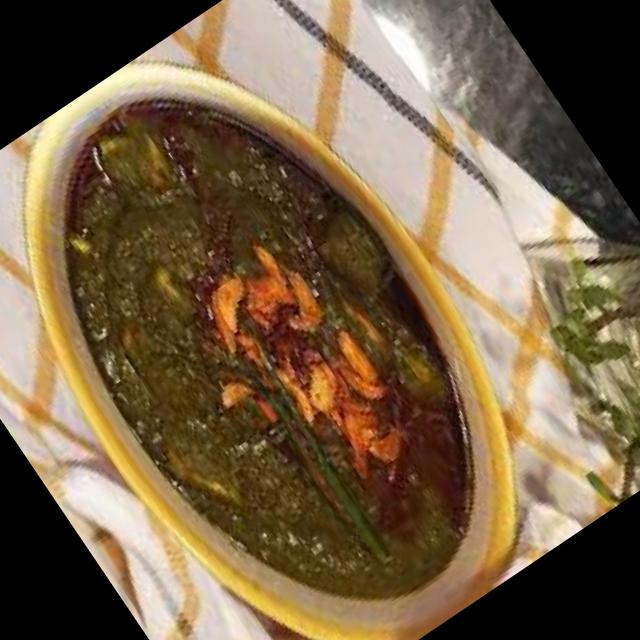palak_paneer: (0, 27, 558, 640)
